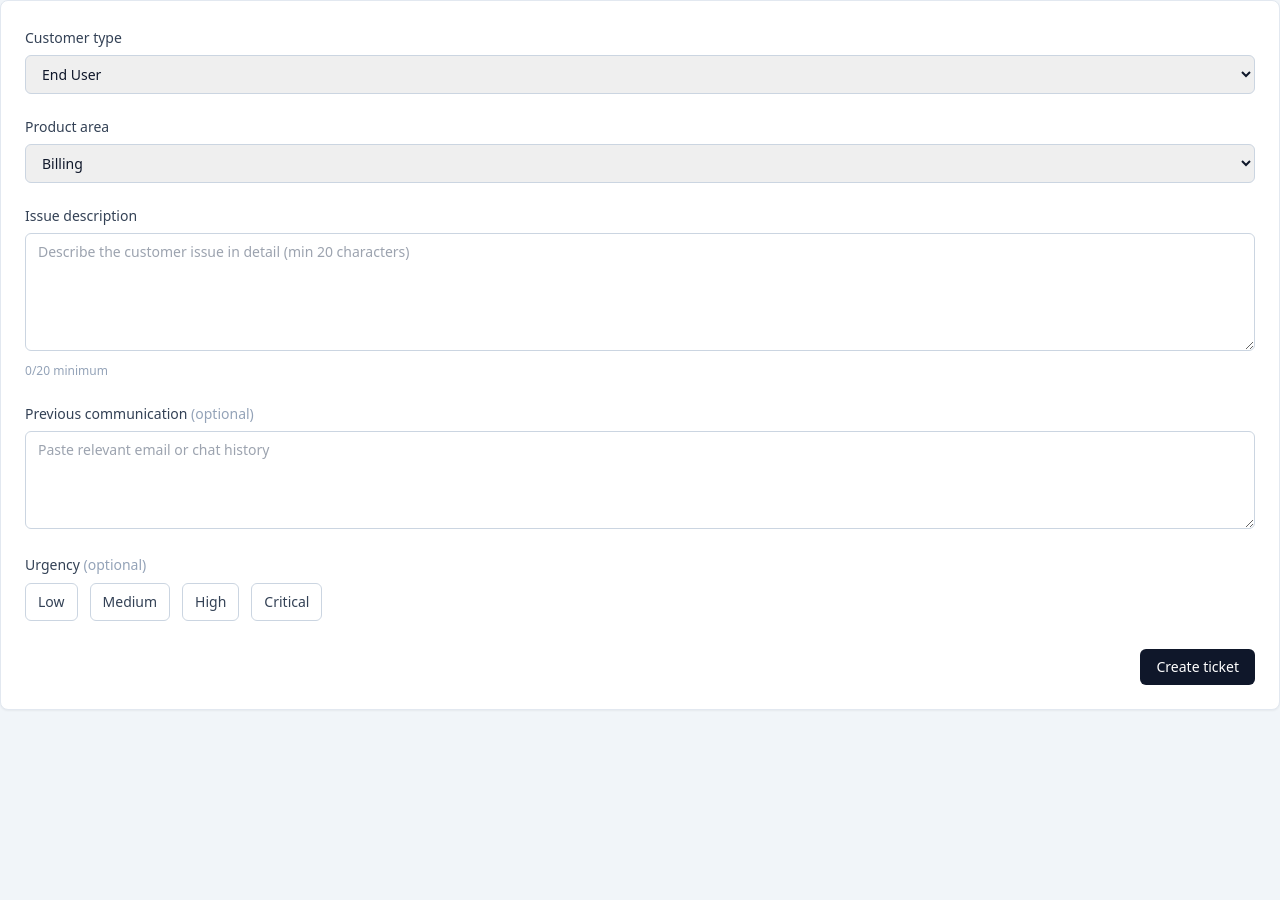
it: TicketForm › shows validation errors for empty required fields
The width and height of the screenshot is (1280, 900).
Click the button "Create ticket" at (1198, 667), box [1140,649,1255,685]
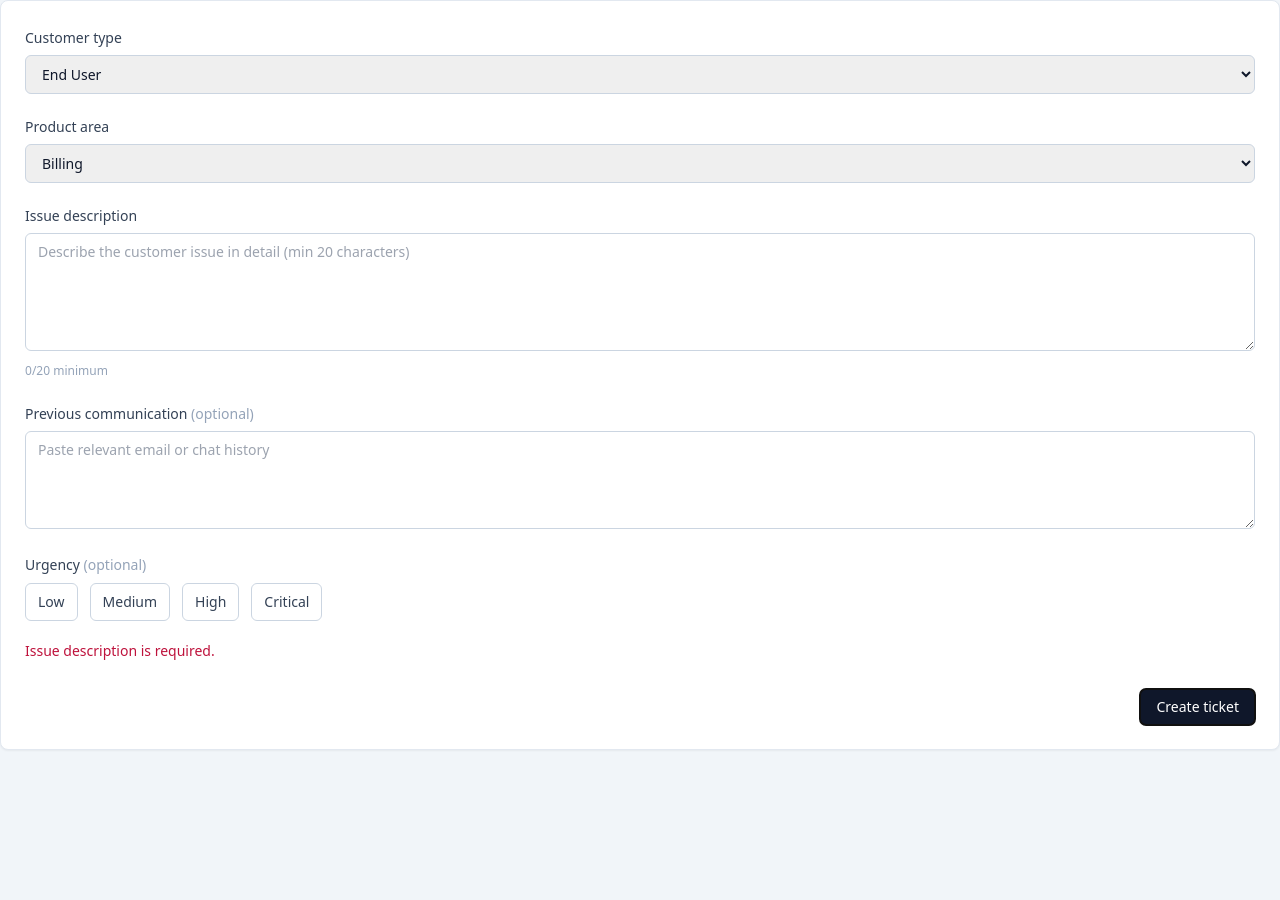
Expected: the message reads "Issue description is required.", [25,641,215,660]
